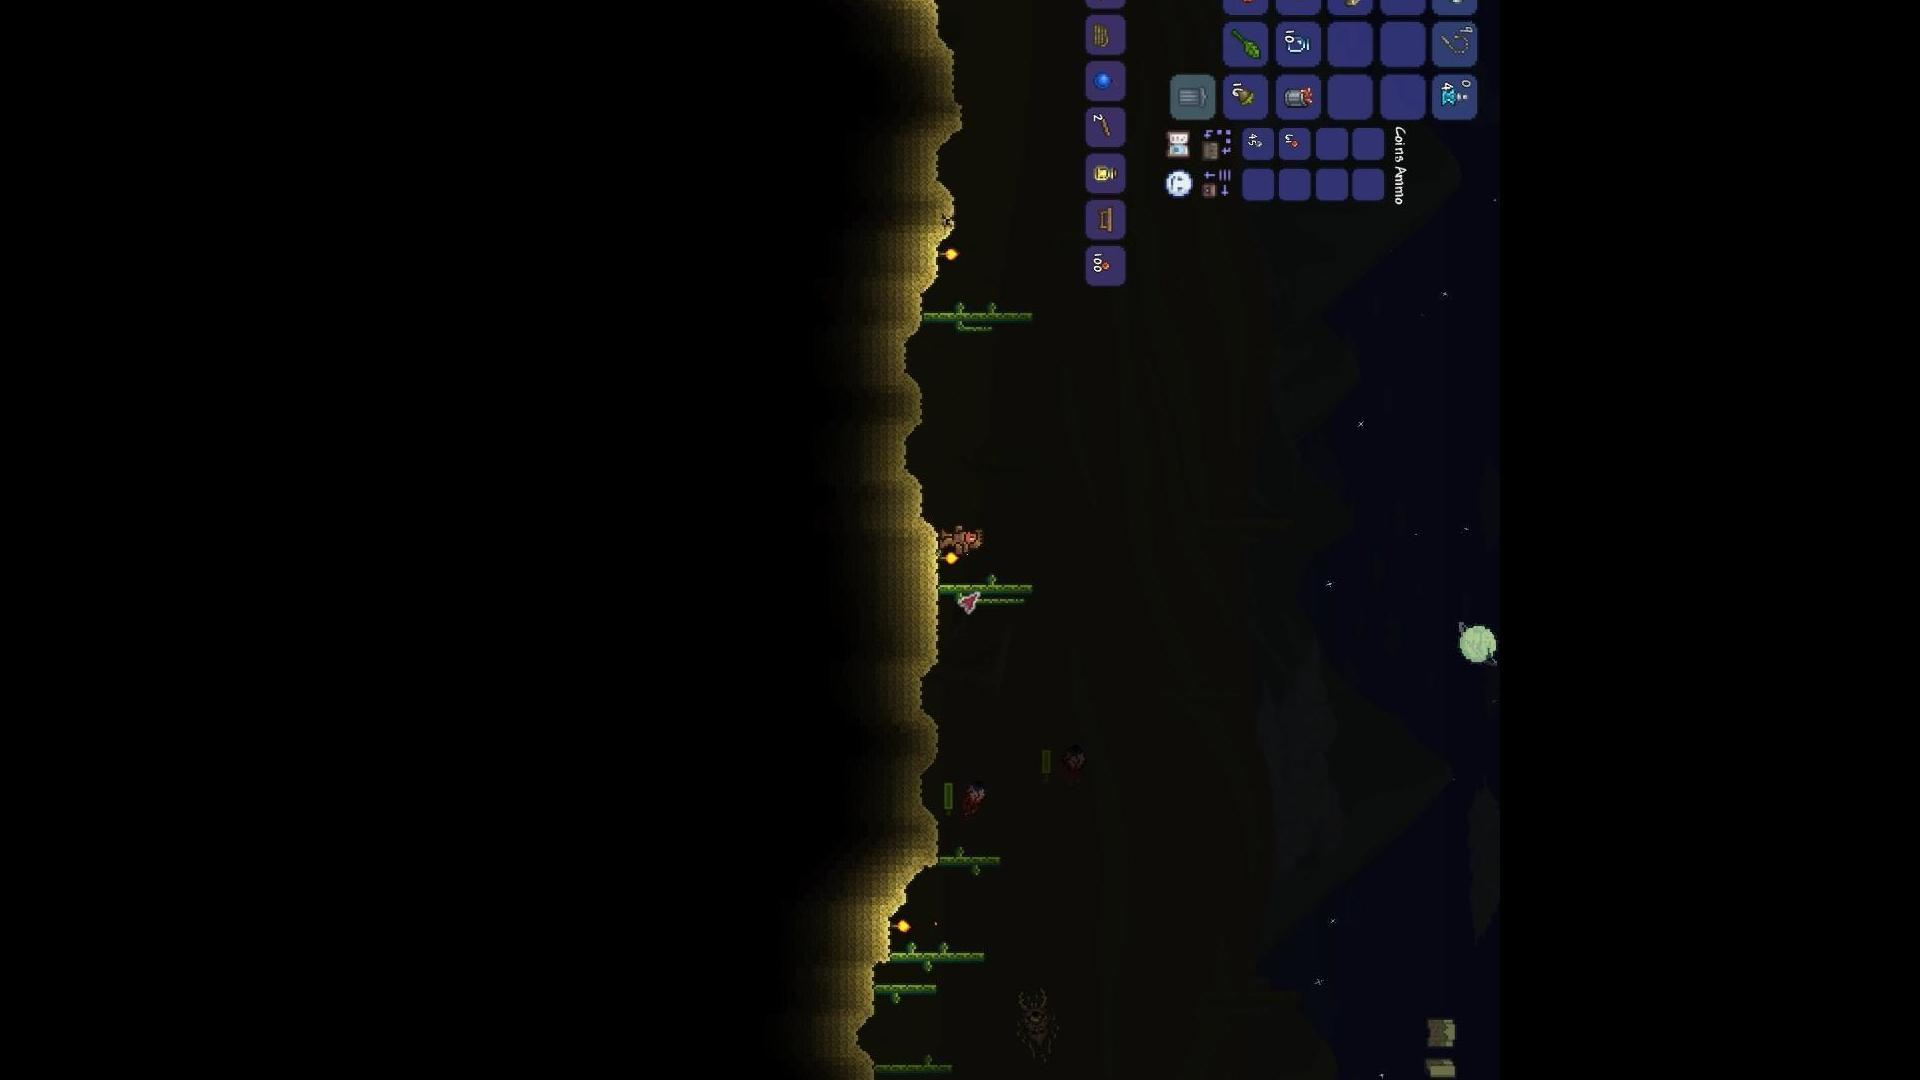eye: (952, 781, 993, 819)
platform: (1098, 115, 1113, 138)
workbench: (1098, 206, 1116, 232)
